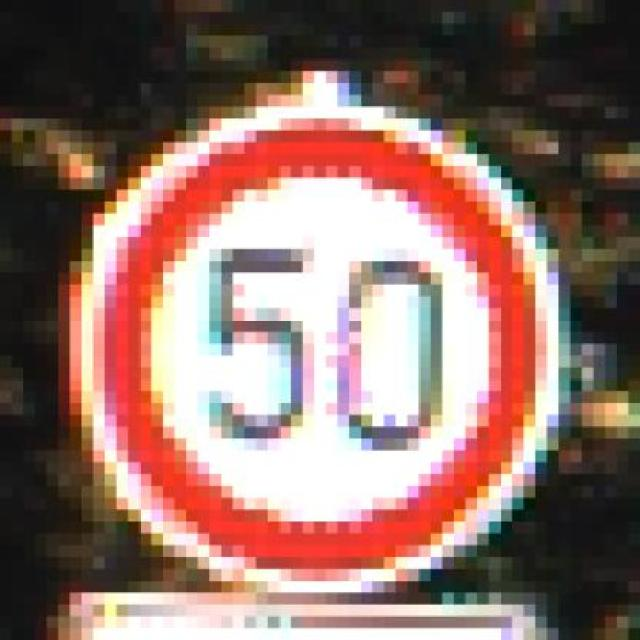50 mph speed limit: (58, 94, 570, 580)
